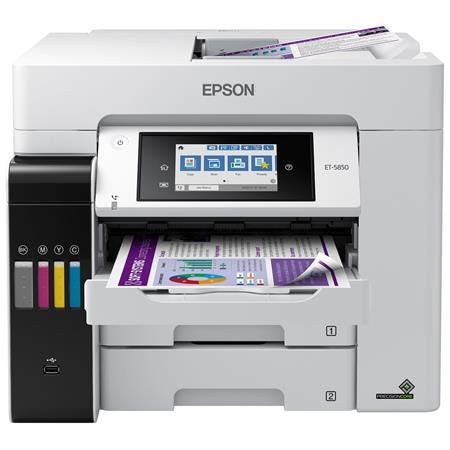printer: (7, 24, 450, 427)
